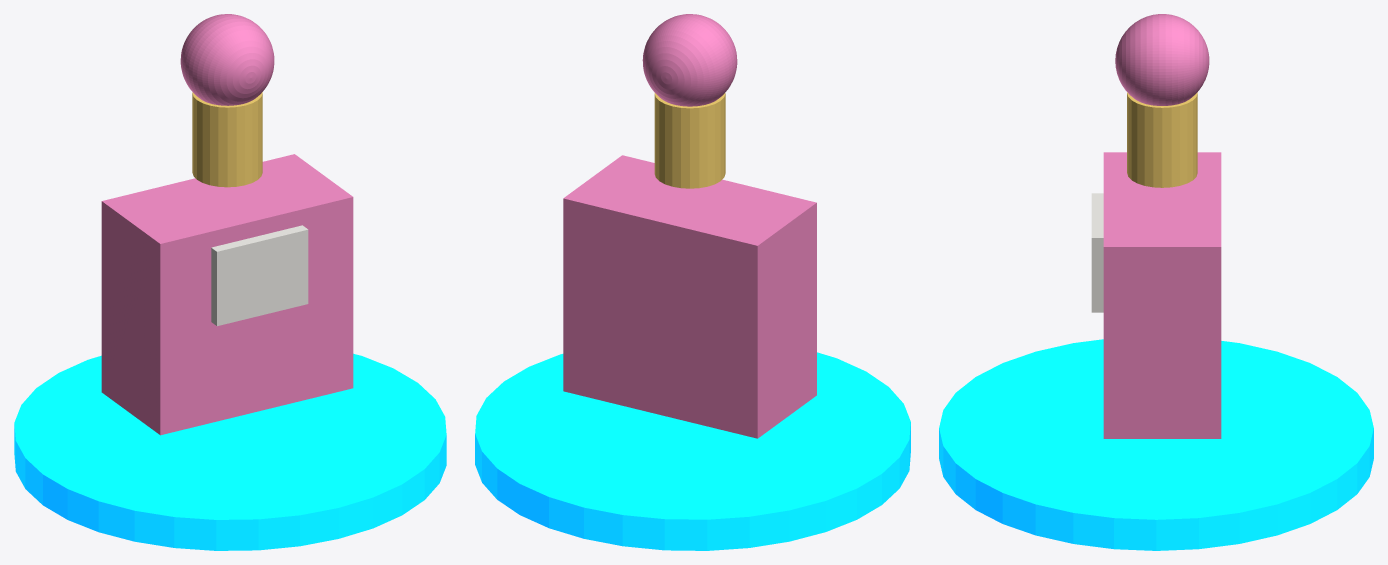
The model's file is french_perfume_bottle.glb.
The picture shows the model from 3 angles, left to right: view 1: azimuth 30°, elevation 25°; view 2: azimuth 150°, elevation 25°; view 3: azimuth 270°, elevation 25°; orthographic projection.
Visible parts, largest first — view 1: 10_11_Popular_French_Perfume_Bottle_ROOT_base, 10_11_Popular_French_Perfume_Bottle_part_01, 10_11_Popular_French_Perfume_Bottle_part_04, 10_11_Popular_French_Perfume_Bottle_part_03, 10_11_Popular_French_Perfume_Bottle_part_02; view 2: 10_11_Popular_French_Perfume_Bottle_part_01, 10_11_Popular_French_Perfume_Bottle_ROOT_base, 10_11_Popular_French_Perfume_Bottle_part_03, 10_11_Popular_French_Perfume_Bottle_part_02; view 3: 10_11_Popular_French_Perfume_Bottle_ROOT_base, 10_11_Popular_French_Perfume_Bottle_part_01, 10_11_Popular_French_Perfume_Bottle_part_03, 10_11_Popular_French_Perfume_Bottle_part_02, 10_11_Popular_French_Perfume_Bottle_part_04.
Part boxes in pixels (left/top/right/bottom): 10_11_Popular_French_Perfume_Bottle_ROOT_base: left=14, top=353, right=446, bottom=550; 10_11_Popular_French_Perfume_Bottle_part_01: left=101, top=154, right=353, bottom=435; 10_11_Popular_French_Perfume_Bottle_part_04: left=211, top=225, right=308, bottom=326; 10_11_Popular_French_Perfume_Bottle_part_03: left=180, top=14, right=274, bottom=105; 10_11_Popular_French_Perfume_Bottle_part_02: left=192, top=92, right=262, bottom=187; 10_11_Popular_French_Perfume_Bottle_part_01: left=563, top=155, right=816, bottom=438; 10_11_Popular_French_Perfume_Bottle_ROOT_base: left=475, top=352, right=910, bottom=550; 10_11_Popular_French_Perfume_Bottle_part_03: left=642, top=14, right=737, bottom=106; 10_11_Popular_French_Perfume_Bottle_part_02: left=654, top=93, right=725, bottom=188; 10_11_Popular_French_Perfume_Bottle_ROOT_base: left=939, top=339, right=1373, bottom=550; 10_11_Popular_French_Perfume_Bottle_part_01: left=1103, top=152, right=1221, bottom=438; 10_11_Popular_French_Perfume_Bottle_part_03: left=1115, top=14, right=1209, bottom=105; 10_11_Popular_French_Perfume_Bottle_part_02: left=1127, top=92, right=1197, bottom=187; 10_11_Popular_French_Perfume_Bottle_part_04: left=1091, top=193, right=1103, bottom=312.
Bounding box in the file's own units: 0.76 × 0.85 × 0.76.
